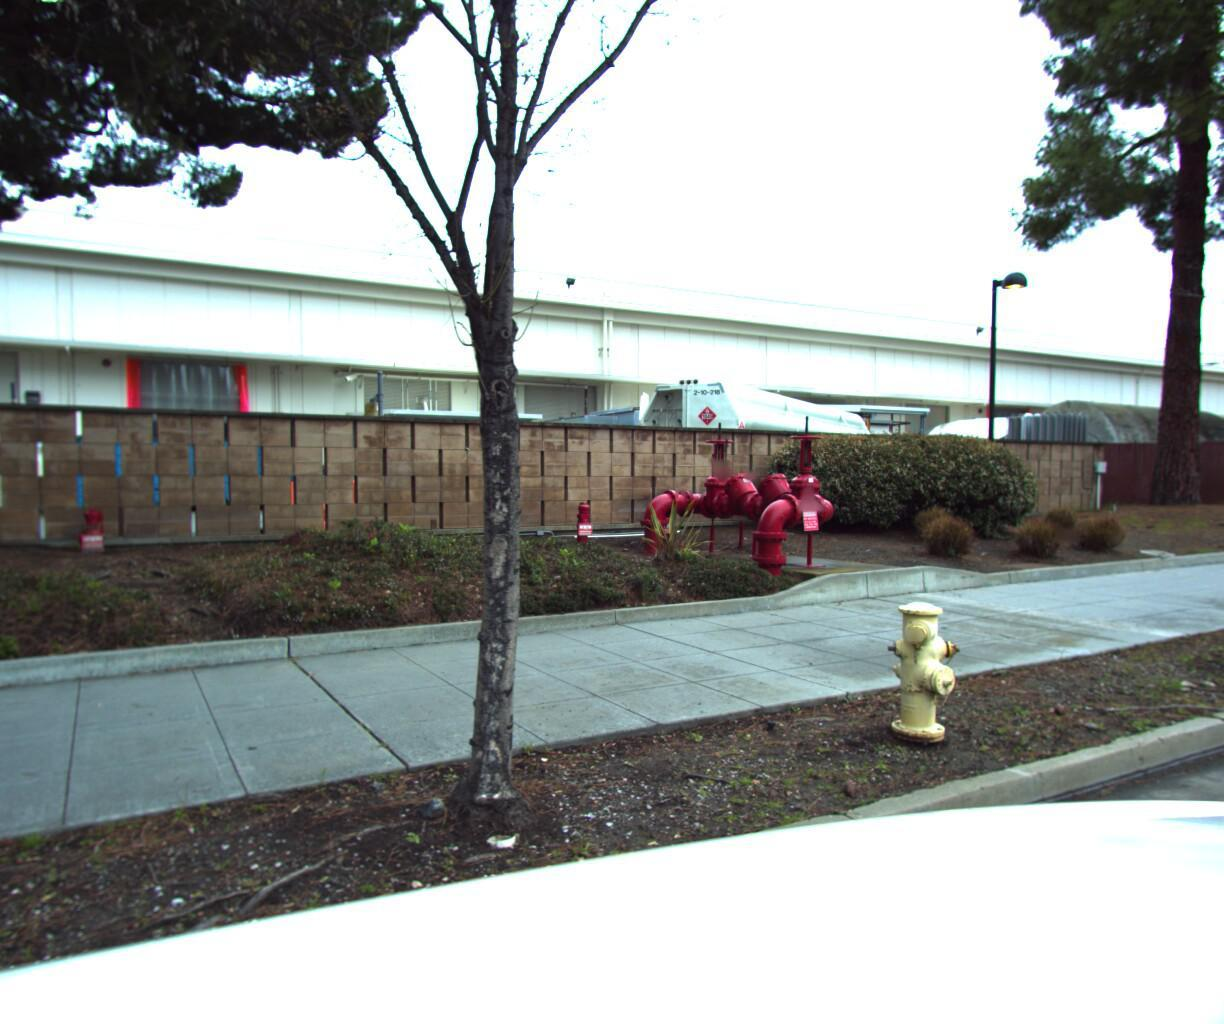truck: (597, 356, 880, 540), (0, 380, 6, 525)
